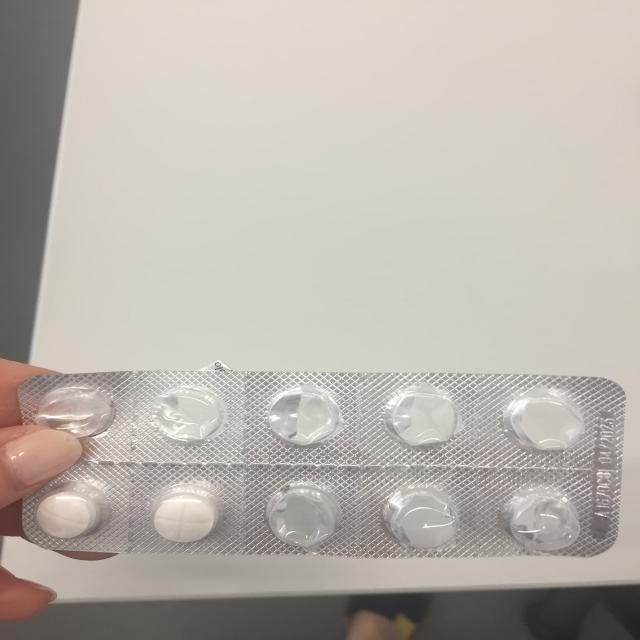Empty: (374, 383, 467, 456), (494, 387, 592, 456), (258, 384, 348, 452), (498, 485, 584, 556), (375, 484, 463, 552), (258, 478, 338, 549), (30, 384, 124, 438), (148, 382, 227, 446)
Pill: (25, 484, 114, 547), (143, 482, 220, 545)
